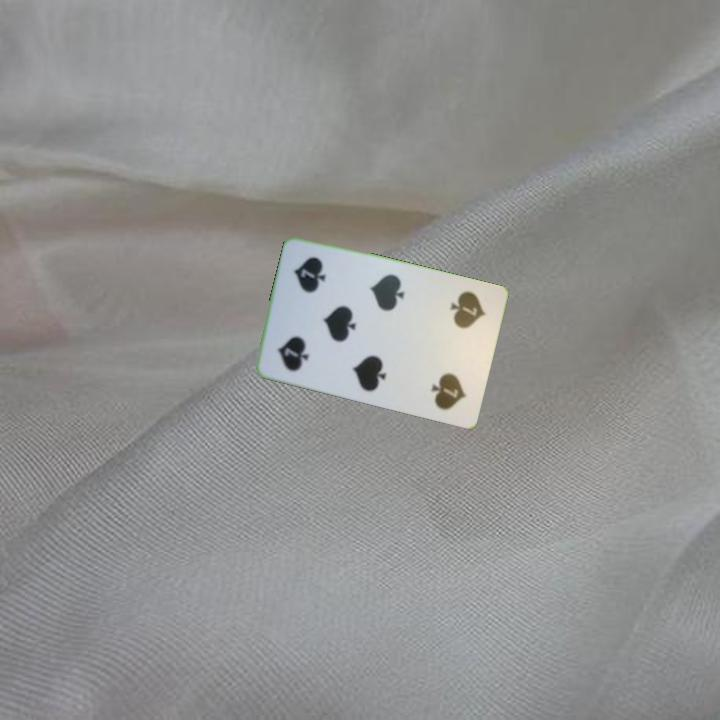s_7.png: (263, 303, 334, 381), (427, 281, 498, 359)
